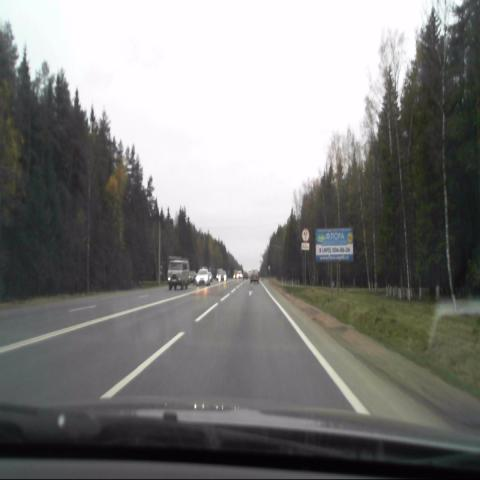3_13: (302, 228, 310, 241)
